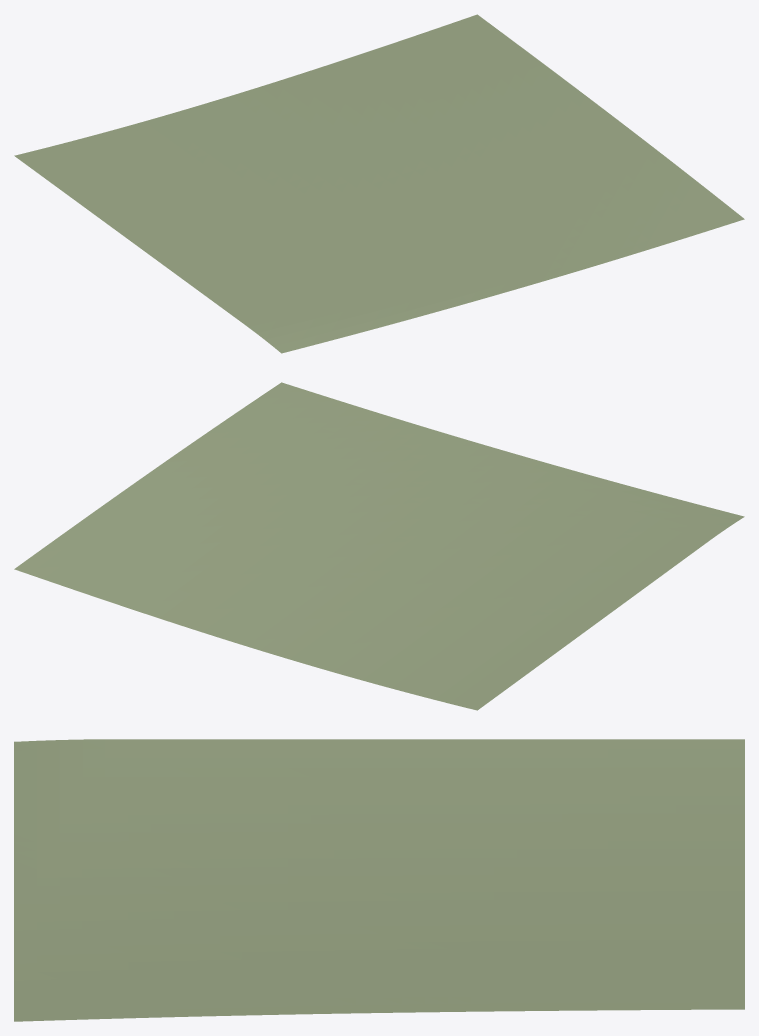
File: valley-0-6.glb
3 renders of one model, top to bottom at view 1: azimuth 30°, elevation 25°; view 2: azimuth 150°, elevation 25°; view 3: azimuth 270°, elevation 25°, orthographic. The views are drawn at different scales.
Visible parts, largest first — view 1: valley-0-6; view 2: valley-0-6; view 3: valley-0-6.
Boxes of the visible parts, x1,y1,x2,y2 form: valley-0-6: (14,14,744,353); valley-0-6: (14,382,744,710); valley-0-6: (14,739,744,1021).
Bounding box in the file's own units: 256 × 15.93 × 256.
